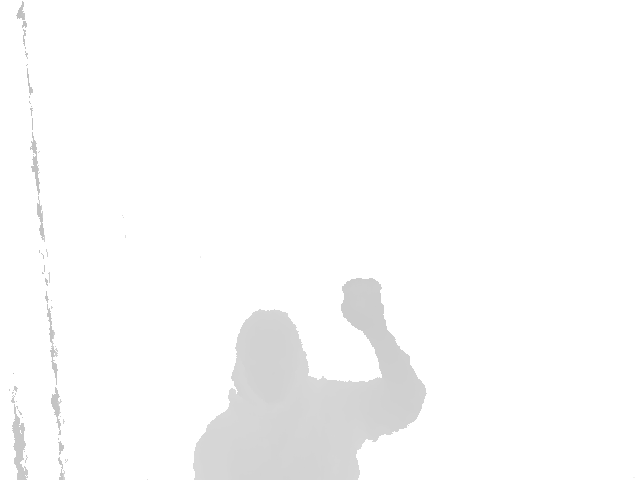hand: (340, 278, 384, 333)
head: (231, 309, 310, 398)
person: (193, 278, 428, 480)
